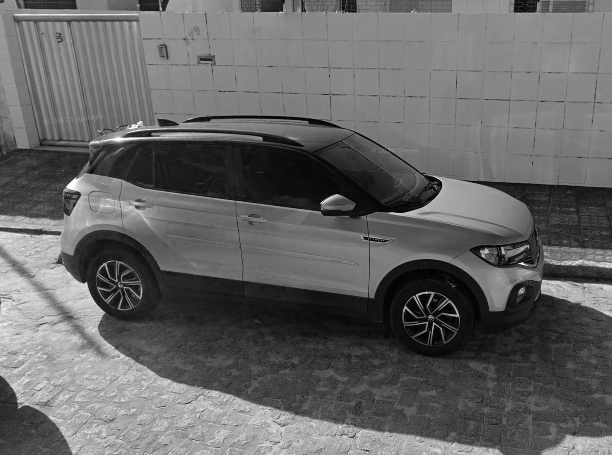car: (56, 112, 549, 362)
